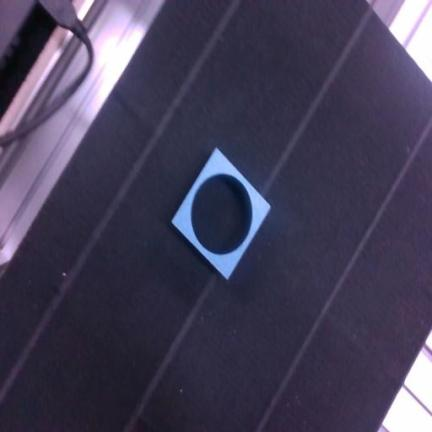square: (173, 149, 269, 279)
